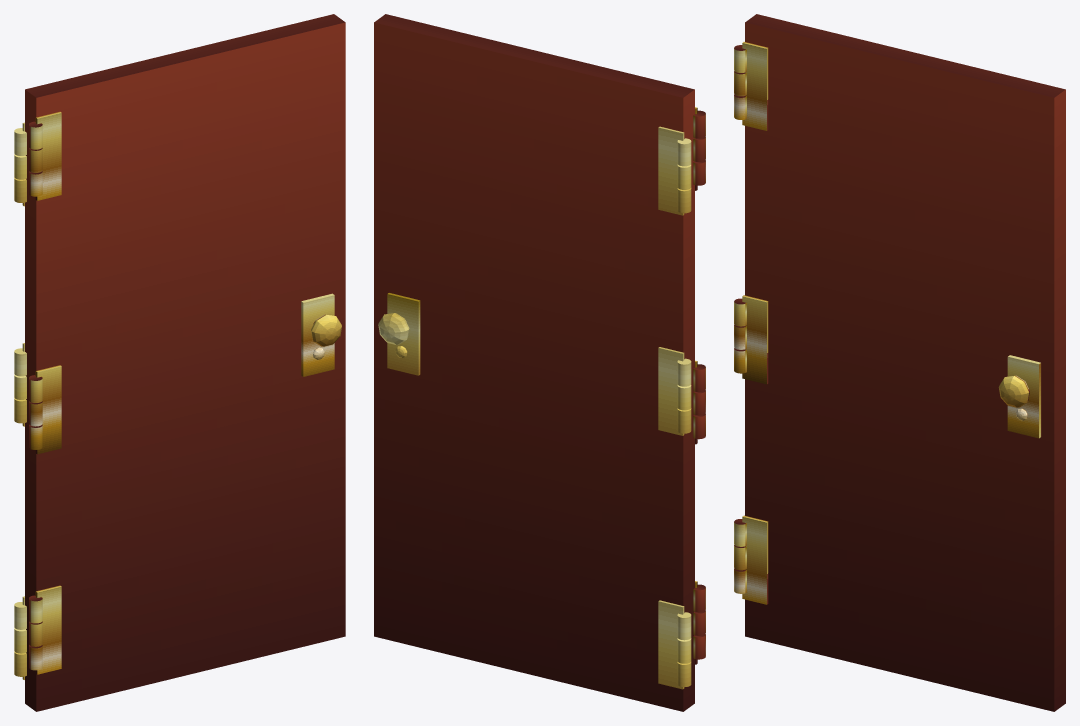
File: door.fbx
The picture shows the model from 3 angles, left to right: view 1: azimuth 30°, elevation 25°; view 2: azimuth 150°, elevation 25°; view 3: azimuth 330°, elevation 25°; orthographic projection.
Parts seen in each view (by area): view 1: Door; view 2: Door; view 3: Door.
Boxes of the visible parts, left/top/right/bottom form: Door: left=14, top=14, right=345, bottom=711; Door: left=374, top=14, right=705, bottom=711; Door: left=734, top=14, right=1065, bottom=711.
Size of the model in its own units: 926 by 1711 by 212.
